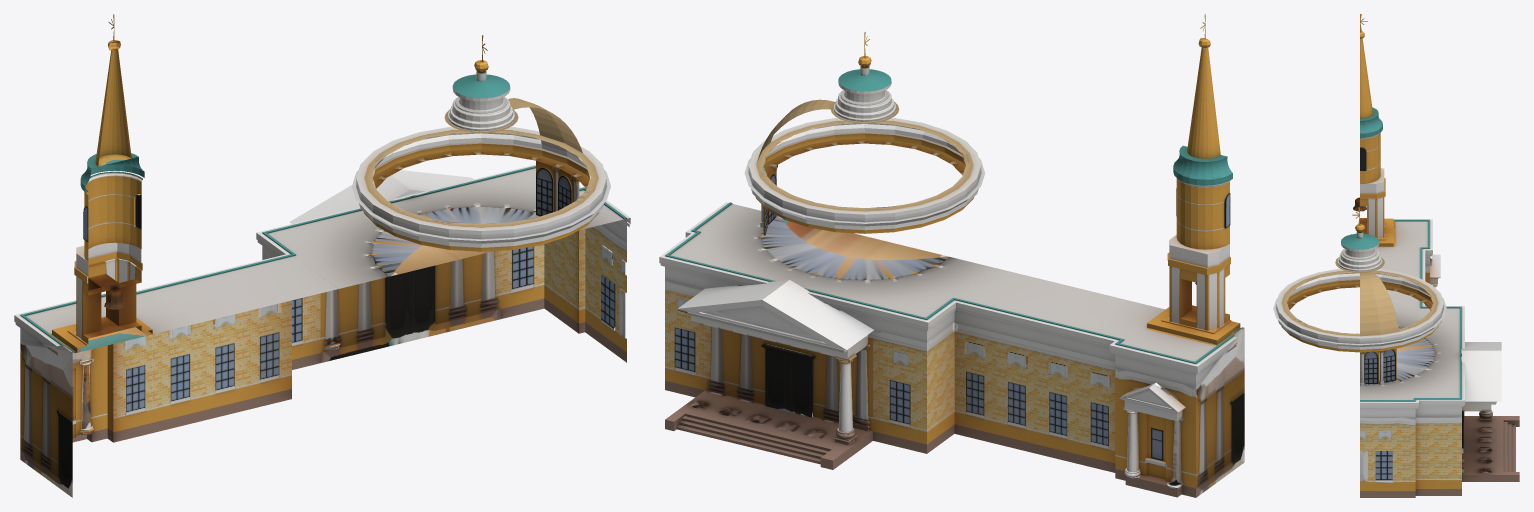
Rendered from Tserkov-Preobrazhenka_tp_h+tp_l.gltf.
3 views of the same model, side by side, from view 1: azimuth 30°, elevation 25°; view 2: azimuth 150°, elevation 25°; view 3: azimuth 270°, elevation 25° (orthographic). The views are drawn at different scales.
Visible parts, largest first — view 1: 4bc27e5c-fdb5-409b-910e-47b3cfb9e2be; view 2: 4bc27e5c-fdb5-409b-910e-47b3cfb9e2be; view 3: 4bc27e5c-fdb5-409b-910e-47b3cfb9e2be.
Boxes of the visible parts, x1,y1,x2,y2 form: 4bc27e5c-fdb5-409b-910e-47b3cfb9e2be: [14, 14, 630, 497]; 4bc27e5c-fdb5-409b-910e-47b3cfb9e2be: [659, 14, 1244, 497]; 4bc27e5c-fdb5-409b-910e-47b3cfb9e2be: [1273, 14, 1519, 497].
Bounding box in the file's own units: 44.19 × 35.53 × 25.06.
1 material, 1 textured.
